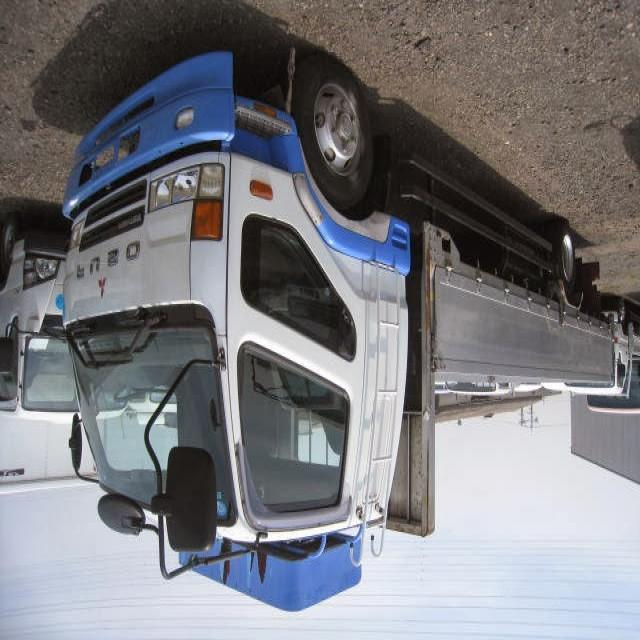truck: (56, 49, 616, 616)
